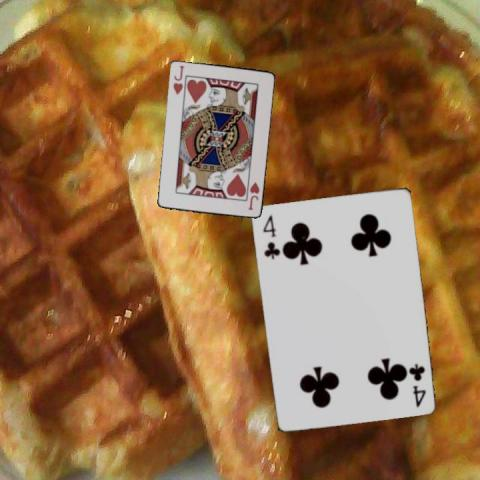4c: (259, 211, 280, 260), (406, 360, 426, 408)
Jh: (245, 178, 261, 210), (170, 63, 185, 96)
